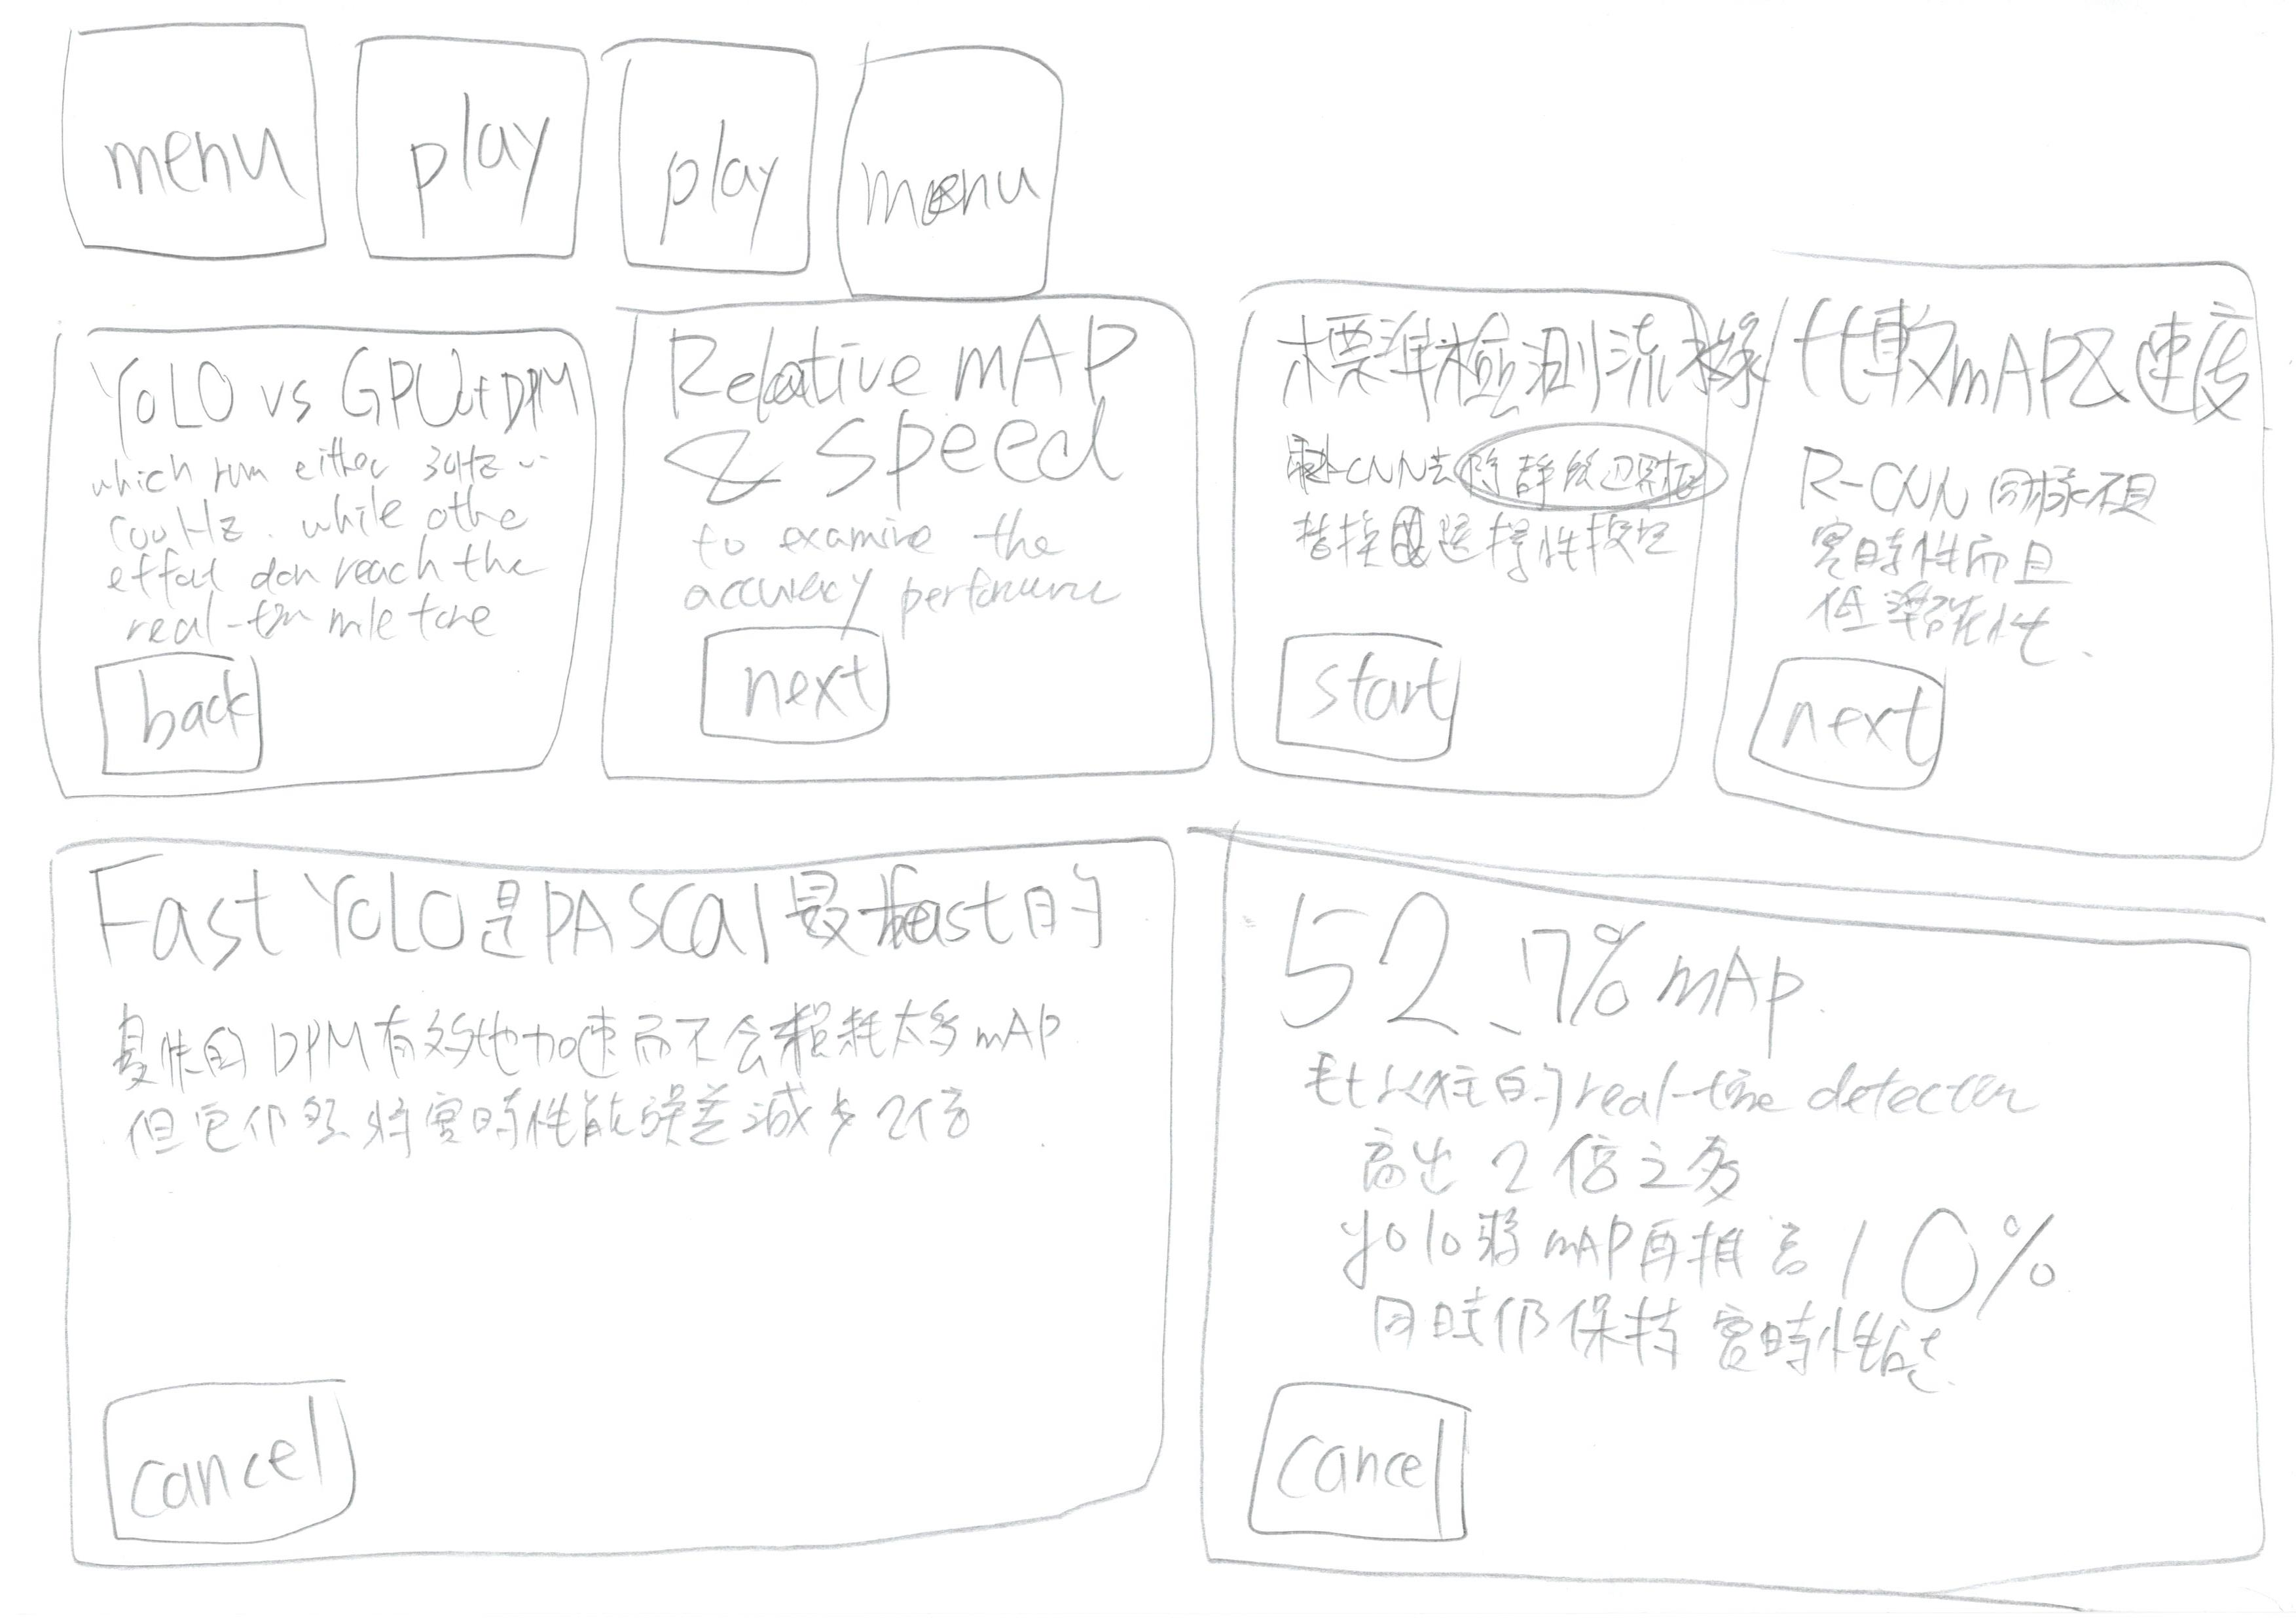back: (70, 640, 306, 798)
cancel: (79, 1355, 385, 1562), (1225, 1357, 1503, 1580)
double: (12, 826, 1188, 1596), (1185, 824, 2296, 1592)
menu: (26, 2, 353, 292), (814, 5, 1092, 306)
next: (1719, 643, 1995, 810), (670, 592, 926, 766)
play: (584, 4, 842, 313), (325, 7, 608, 285)
quadruple: (1693, 243, 2296, 907), (592, 272, 1241, 844), (1157, 257, 1806, 828), (28, 288, 622, 856)
row: (4, 773, 2296, 1624), (0, 251, 2292, 875), (4, 2, 2296, 329)
small-title: (70, 863, 1120, 982), (1269, 900, 1825, 1056), (665, 313, 1132, 497), (1814, 306, 2245, 424), (1285, 306, 1767, 401), (102, 339, 552, 432)
start: (1232, 601, 1487, 780)
text: (1297, 1028, 2089, 1381), (77, 995, 1092, 1160), (102, 436, 527, 642), (1798, 439, 2169, 634), (1278, 417, 1746, 569), (680, 508, 1127, 620)
